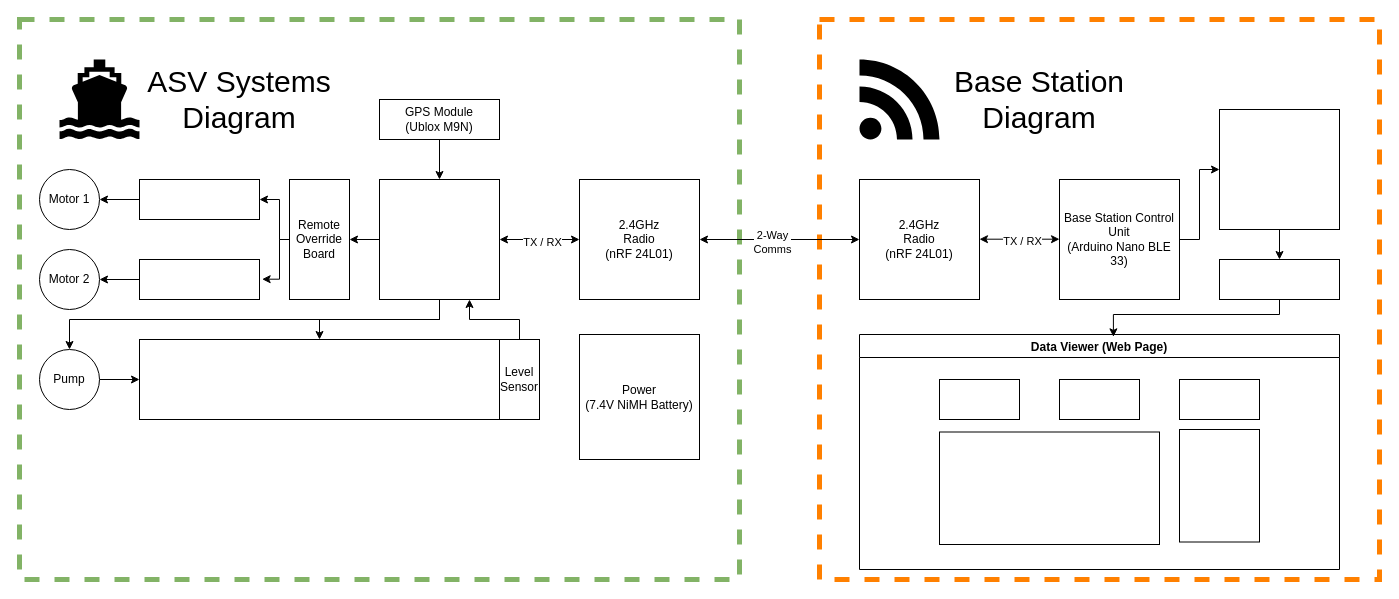
The diagram is 1399 pixels wide and 599 high, and some of its shapes have lost their labels. Here are the shapes that lost their labels. From the top down, the box of each, then its label:
(1218, 108, 1340, 230): Data Logger (Python)
(138, 178, 260, 220): Motor Controller (1)
(378, 178, 500, 300): ASV Control Unit (Arduino Nano BLE 33)
(138, 258, 260, 300): Motor Controller (2)
(1218, 258, 1340, 300): API (Python)
(138, 338, 500, 420): Sensor Tube (Temperature, turbidity, pH)
